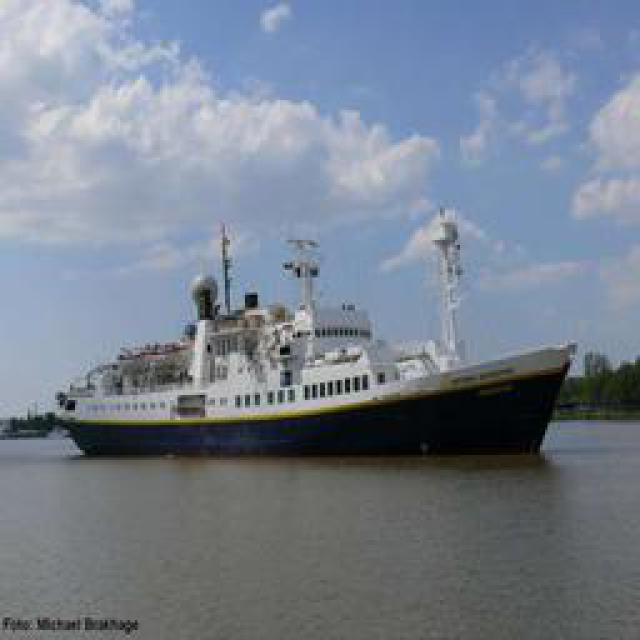Ship: (37, 205, 575, 455)
